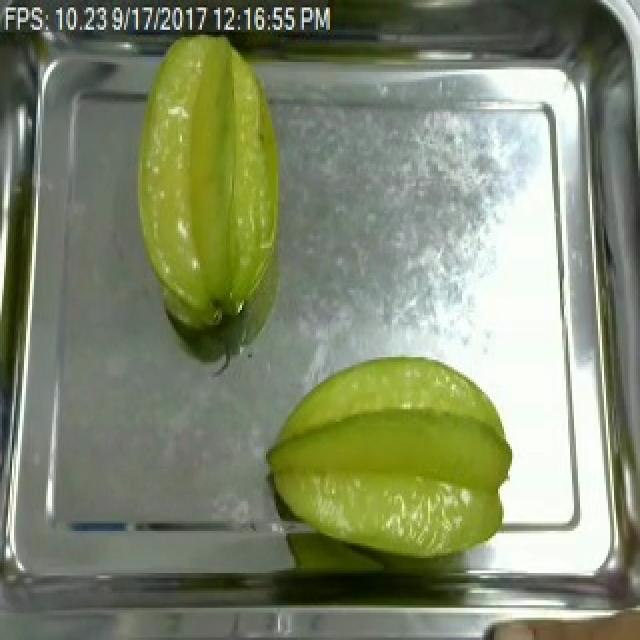fruit: (254, 350, 520, 570), (118, 28, 292, 342)
